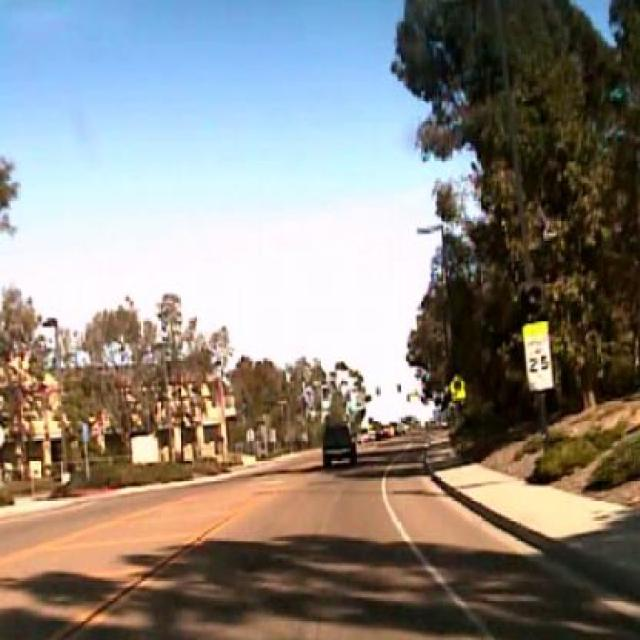school: (449, 375, 465, 394)
schoolSpeedLimit25: (522, 320, 552, 391)
